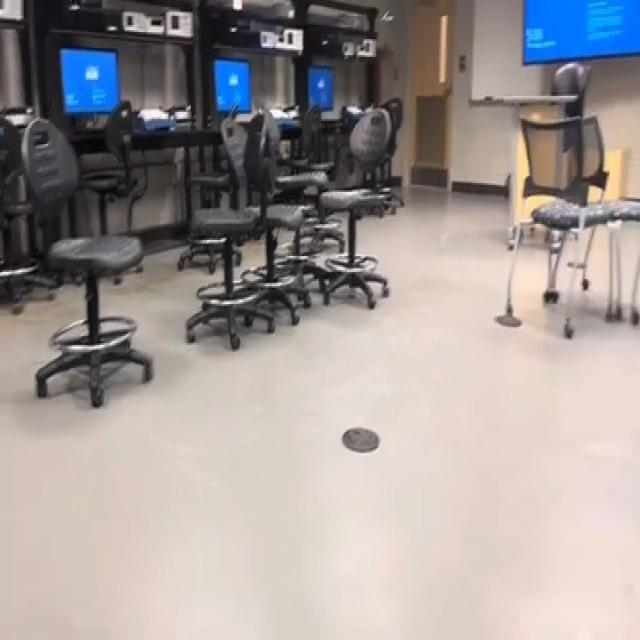drone: (371, 0, 401, 34)
